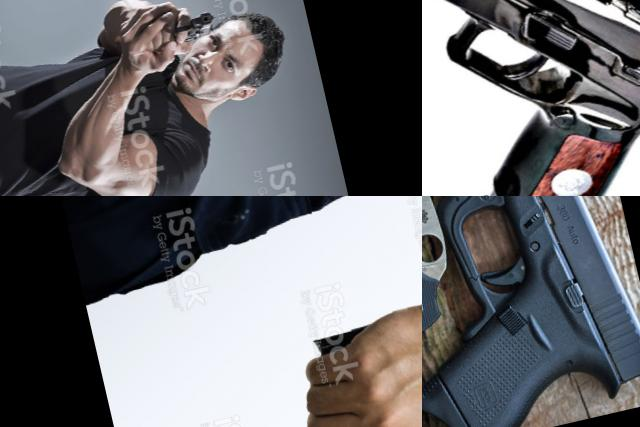handgun: (422, 196, 640, 427), (422, 0, 640, 196), (153, 311, 422, 427), (166, 8, 222, 50)
